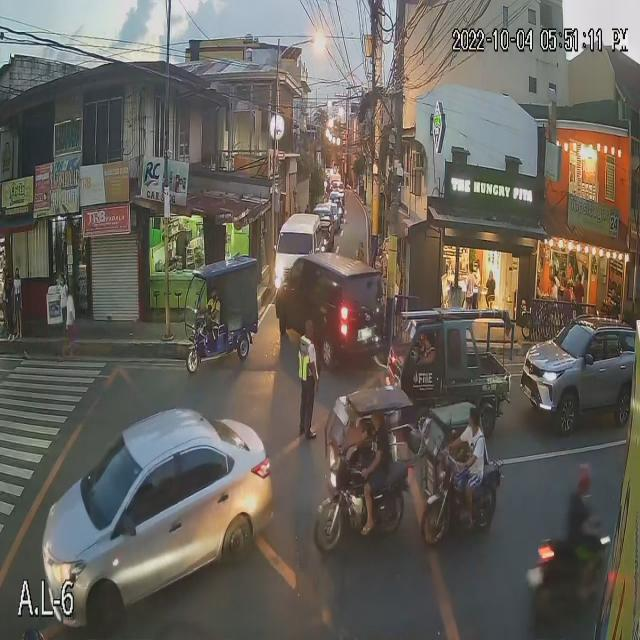helmet: (571, 460, 602, 500)
motorcycle: (521, 538, 617, 610)
rider: (562, 498, 600, 566)
